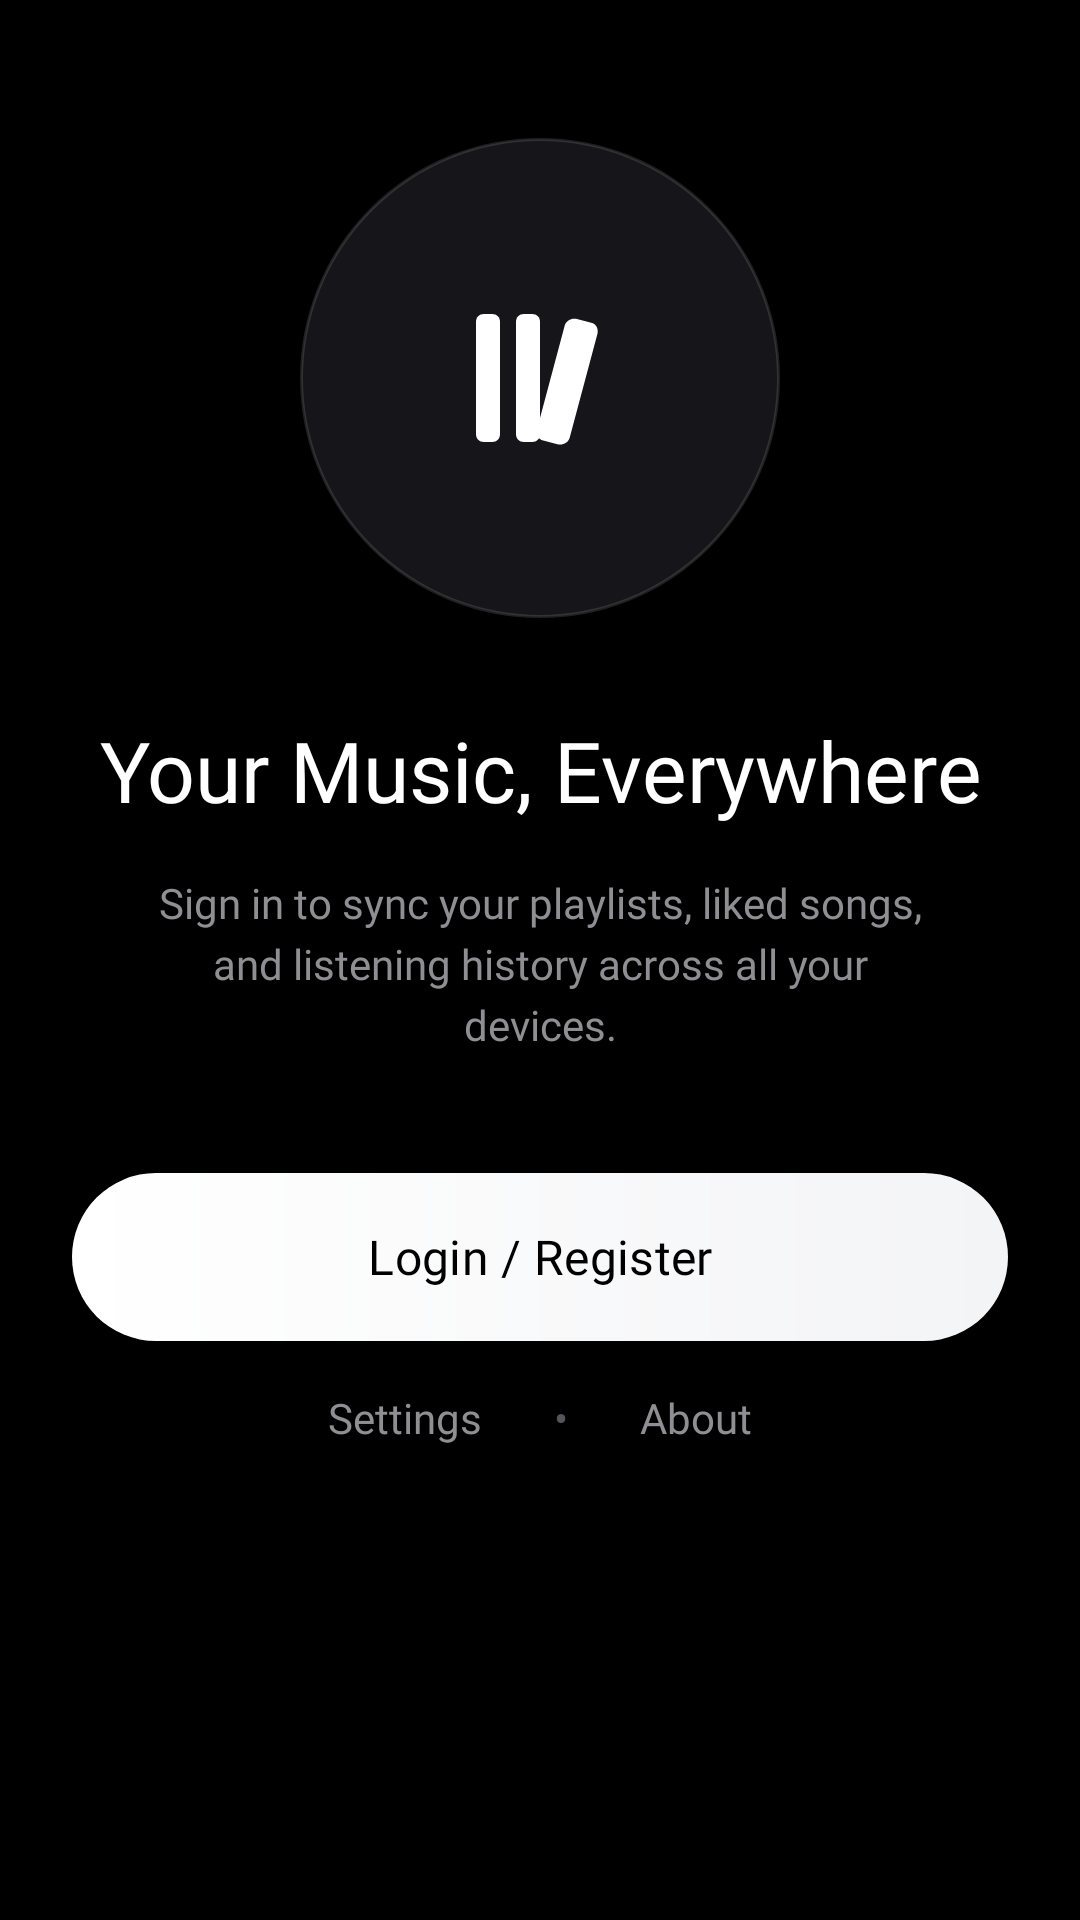

Where to tap for icons on this 1080 × 1920 app screen, as (x=x, y=y):
library: (x=537, y=379)
